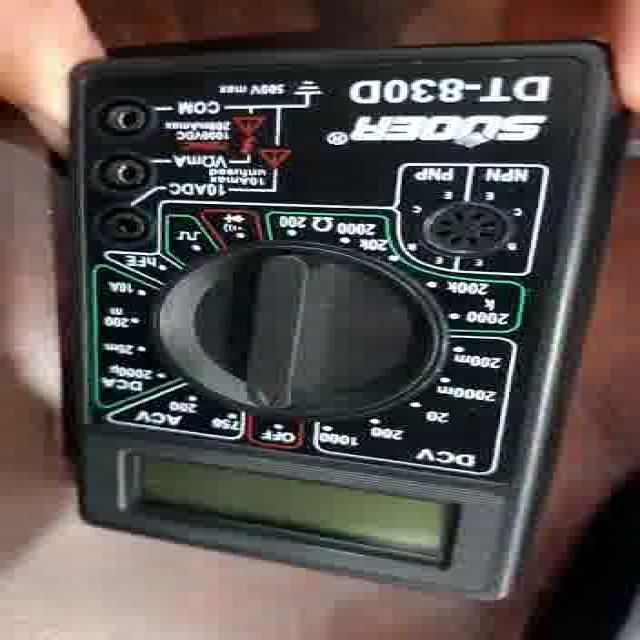multimeter: (54, 52, 558, 602)
